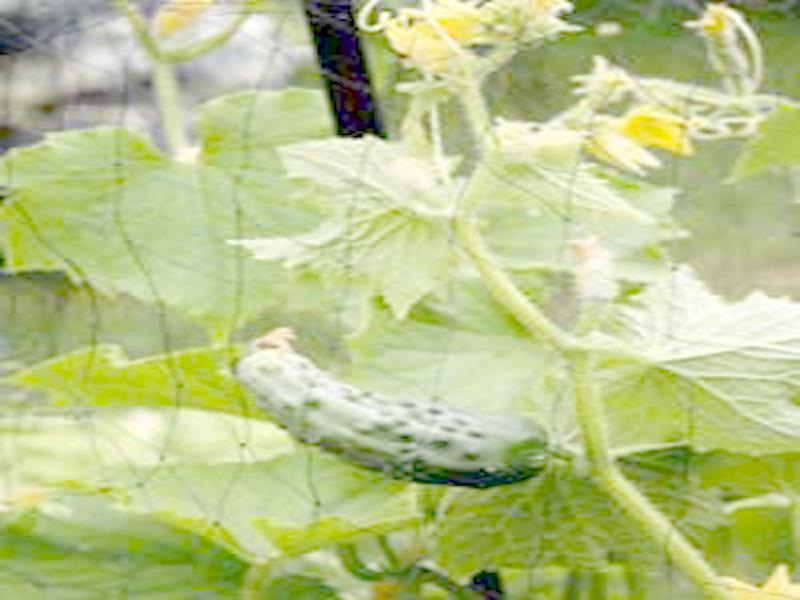Cucumber: (232, 325, 556, 487)
